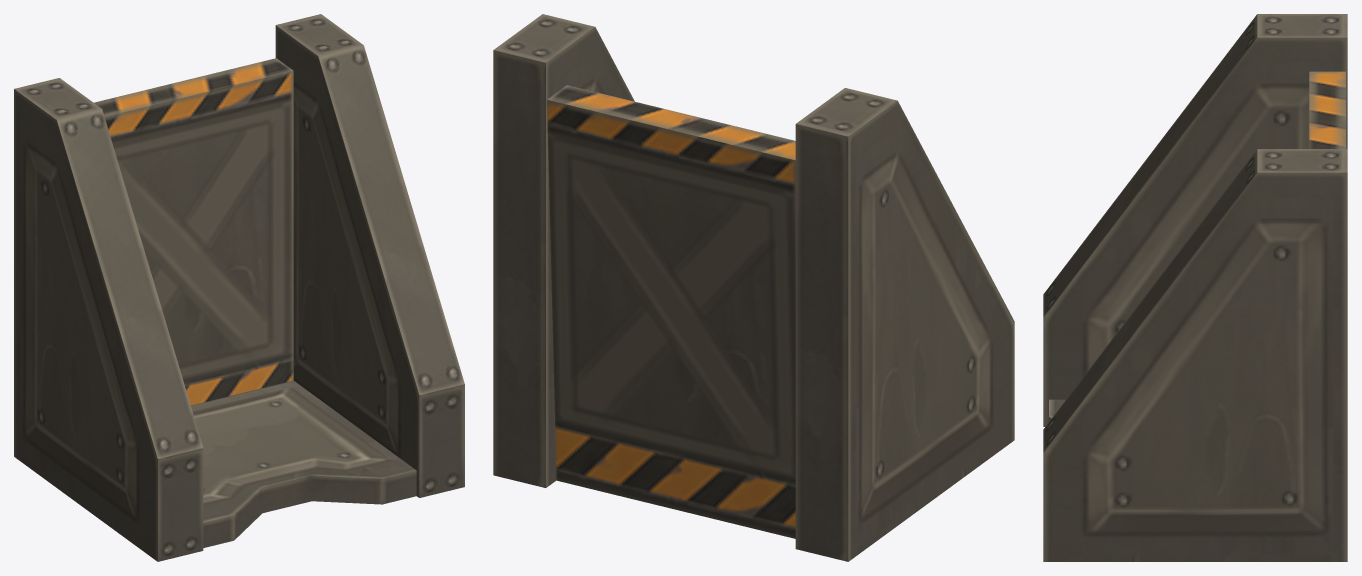
File: machine_6.FBX
3 views of the same model, side by side, from view 1: azimuth 30°, elevation 25°; view 2: azimuth 150°, elevation 25°; view 3: azimuth 270°, elevation 25° (orthographic). The views are drawn at different scales.
Visible parts, largest first — view 1: Box002; view 2: Box002; view 3: Box002.
Boxes of the visible parts, box(x1,y1,x2,y2) form: Box002: box(14, 14, 464, 561); Box002: box(493, 14, 1014, 561); Box002: box(1043, 14, 1347, 561).
Size of the model in its own units: 69.17 by 56.1 by 79.17.
